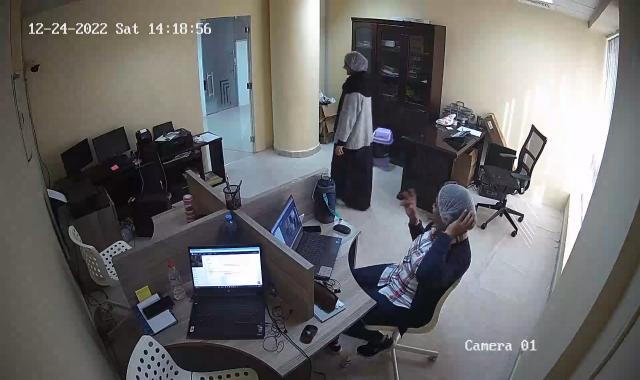hairnet: (436, 182, 472, 215), (343, 51, 370, 74)
